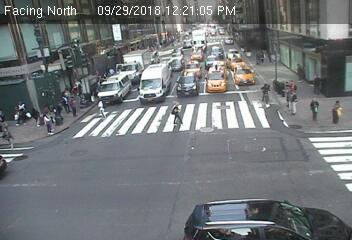car: (184, 199, 352, 239), (116, 50, 153, 85), (139, 63, 171, 102), (98, 74, 132, 105), (206, 65, 228, 93), (234, 64, 256, 86), (176, 75, 198, 96), (183, 59, 201, 79), (192, 30, 208, 50), (205, 53, 220, 68), (228, 46, 241, 62), (170, 57, 183, 71), (173, 47, 183, 58), (223, 36, 234, 44), (183, 39, 193, 47), (210, 29, 217, 36)
